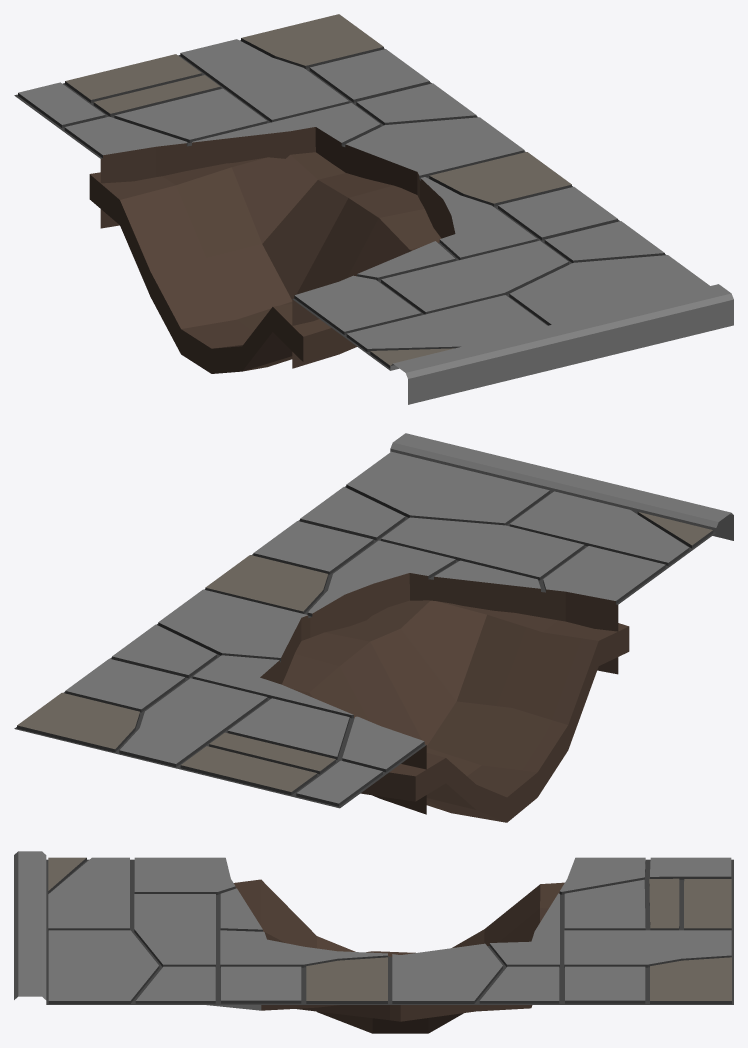
File: Walkway Modern Hole B - 1.fbx
The picture shows the model from 3 angles, top to bottom: view 1: azimuth 30°, elevation 25°; view 2: azimuth 150°, elevation 25°; view 3: azimuth 270°, elevation 25°; orthographic projection. The views are drawn at different scales.
Visible parts, largest first — view 1: Walkway Modern Hole B - 1.001; view 2: Walkway Modern Hole B - 1.001; view 3: Walkway Modern Hole B - 1.001.
Boxes of the visible parts, <box> form: Walkway Modern Hole B - 1.001: <box>14,14,733,404</box>; Walkway Modern Hole B - 1.001: <box>14,433,733,822</box>; Walkway Modern Hole B - 1.001: <box>14,851,733,1033</box>.
Bounding box in the file's own units: 305 × 638 × 134.
